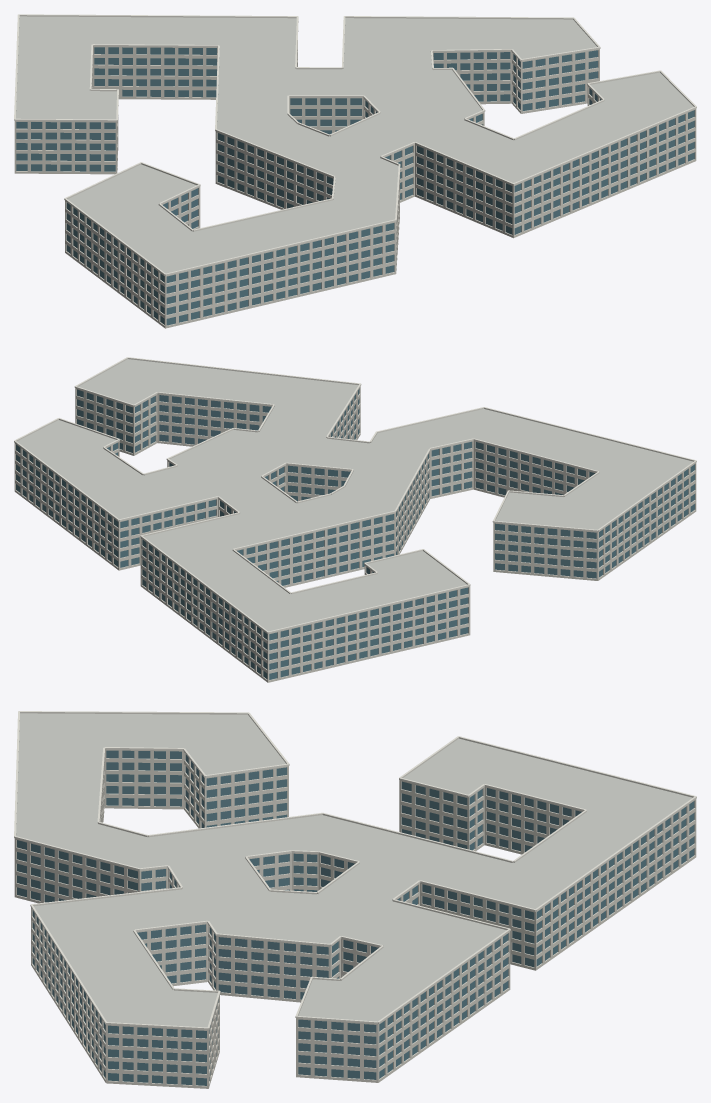
File: gongke.far.glb
3 renders of one model, top to bottom at view 1: azimuth 30°, elevation 25°; view 2: azimuth 150°, elevation 25°; view 3: azimuth 270°, elevation 25°, orthographic. The views are drawn at different scales.
Parts seen in each view (by area): view 1: roof, wall, glass, trim; view 2: roof, wall, glass, trim; view 3: roof, wall, glass, trim.
Boxes of the visible parts, bbox=[...] form: roof: bbox=[16, 16, 693, 273]; wall: bbox=[14, 42, 696, 328]; glass: bbox=[16, 47, 694, 325]; trim: bbox=[14, 14, 696, 275]; roof: bbox=[17, 359, 692, 631]; wall: bbox=[14, 387, 696, 682]; glass: bbox=[16, 389, 694, 679]; trim: bbox=[14, 357, 696, 633]; roof: bbox=[16, 713, 692, 1027]; wall: bbox=[14, 749, 696, 1088]; glass: bbox=[17, 750, 694, 1085]; trim: bbox=[14, 711, 696, 1029].
Size of the model in its own units: 183 by 16.34 by 166.
